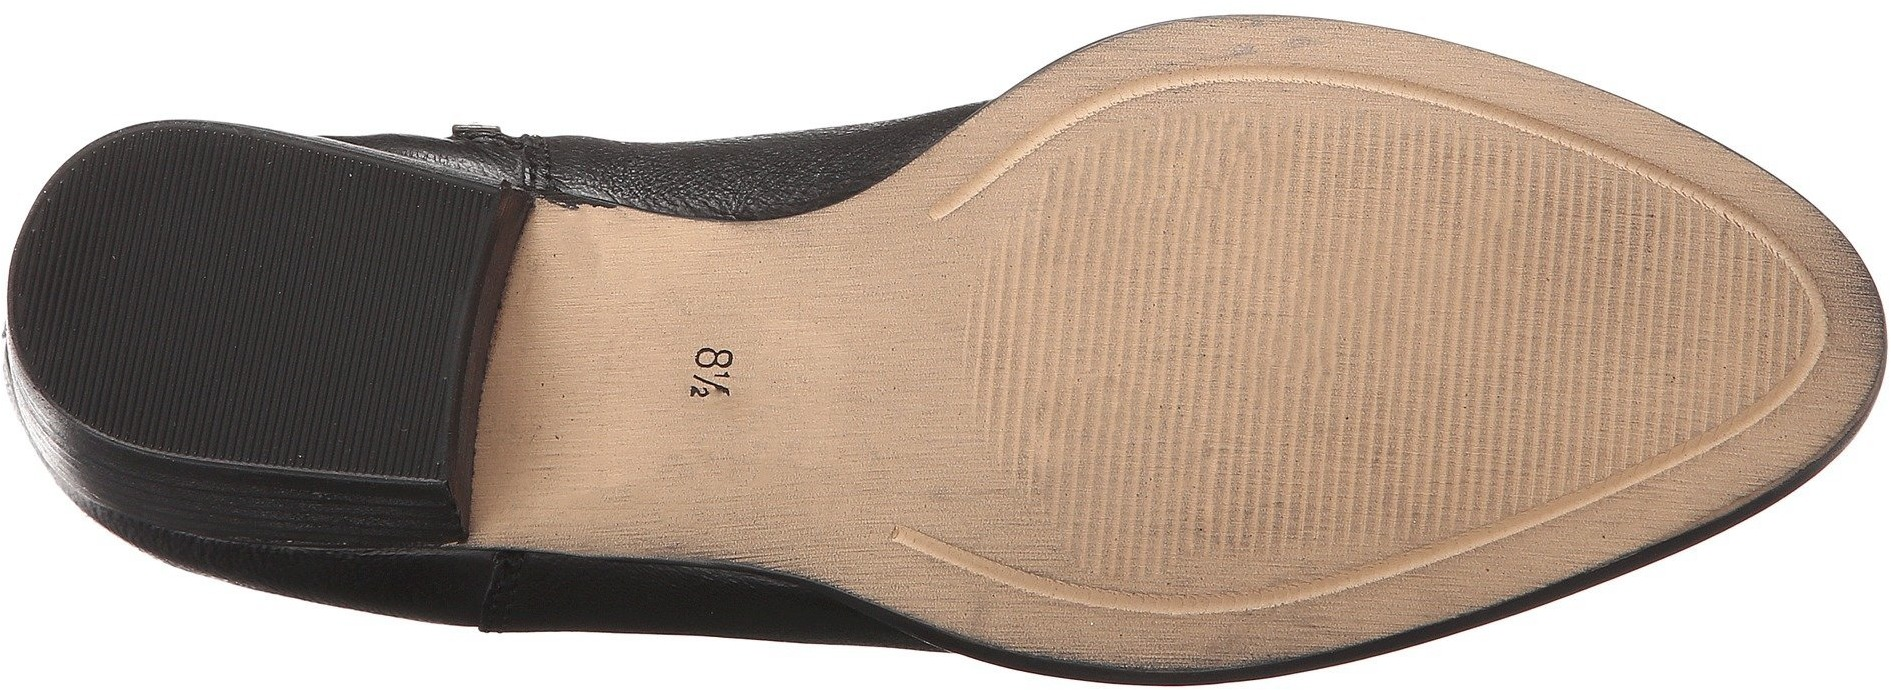other: (1245, 125, 1550, 408), (999, 204, 1239, 469), (62, 174, 286, 404), (1565, 222, 1761, 422), (289, 222, 450, 370)
